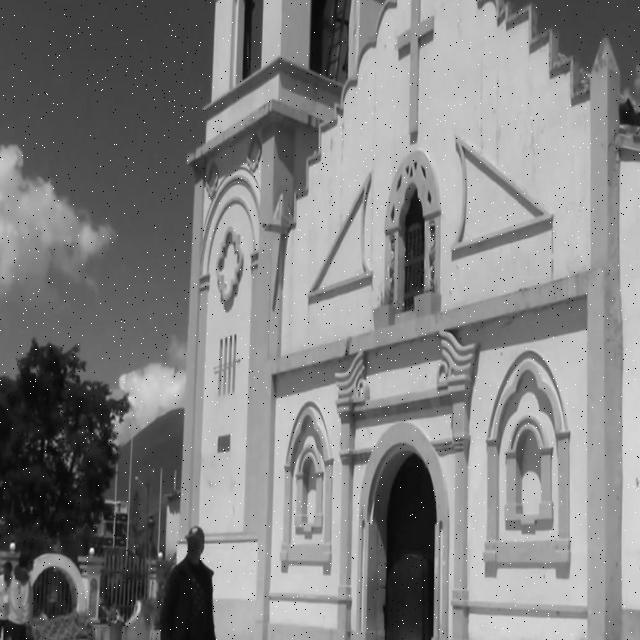PORTADA CENTRAL: (330, 355, 480, 640)
SIMETRIA COLONIAL: (271, 0, 640, 640)
colonial-architecture-: (92, 0, 640, 640)
